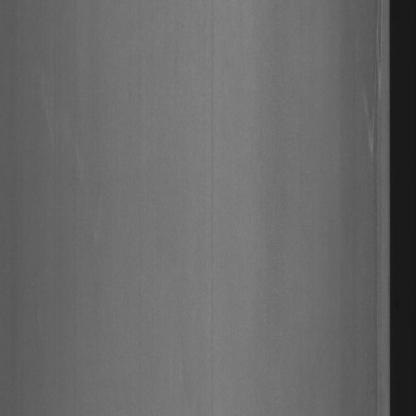silk_spot: (362, 6, 386, 159)
